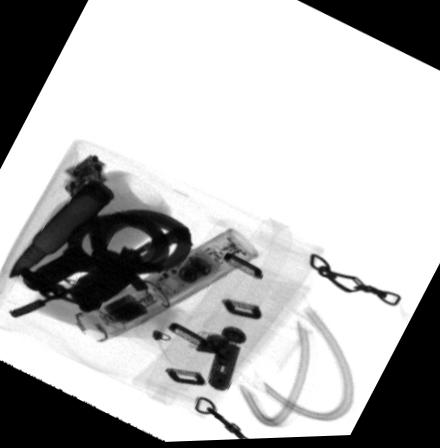Baton: (75, 230, 260, 342)
Bullet: (6, 180, 115, 280)
Gun: (9, 228, 197, 318)
HandCuffs: (23, 211, 194, 293)
